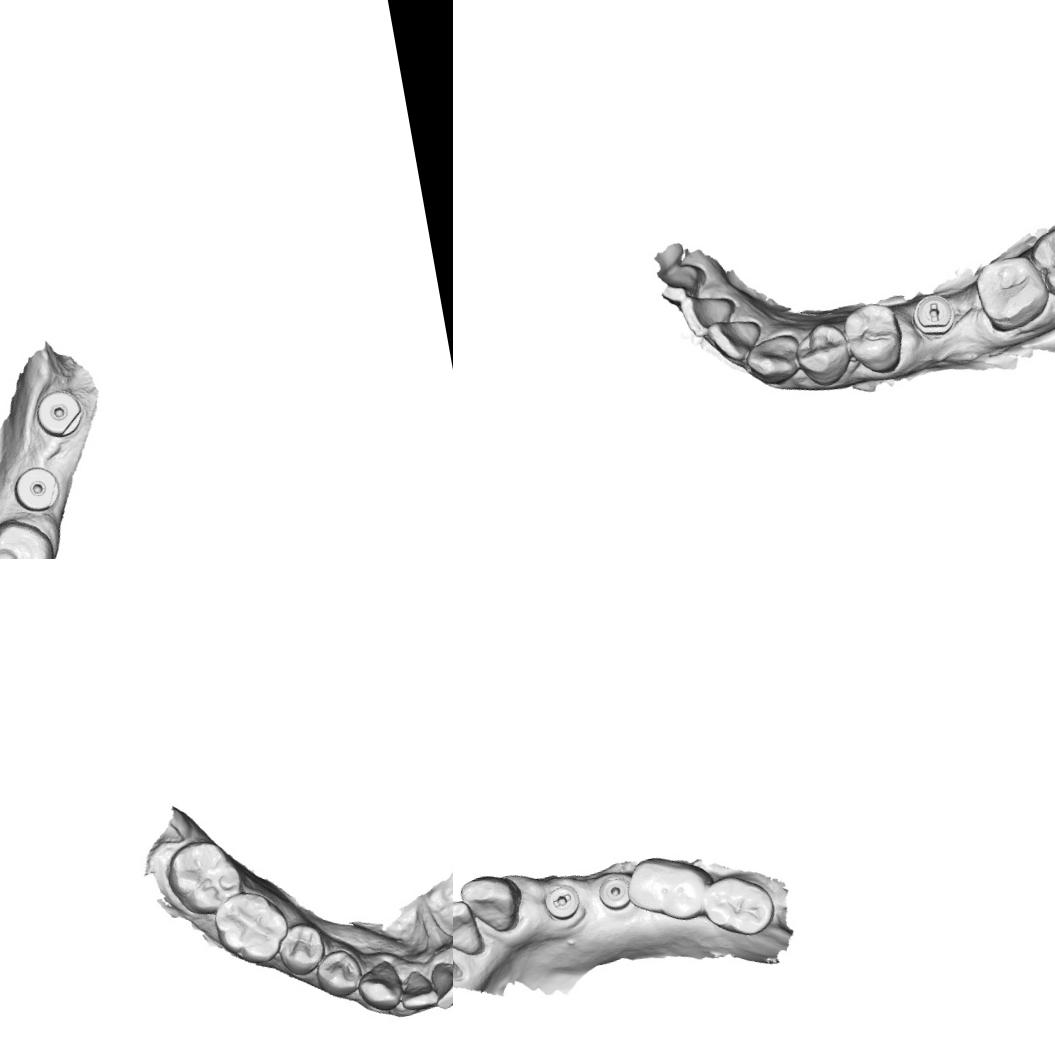canine: (456, 868, 524, 938), (741, 326, 803, 392), (351, 956, 406, 1016)
implant: (9, 460, 65, 514), (32, 386, 85, 439), (592, 868, 638, 914)
implant_minus: (909, 290, 959, 340), (538, 878, 583, 923)
incisor: (676, 287, 746, 342), (706, 314, 770, 370), (653, 258, 709, 307), (453, 893, 484, 966), (394, 966, 440, 1012), (427, 958, 453, 1010)
molar: (208, 884, 294, 970), (162, 834, 247, 921), (623, 848, 714, 928), (696, 866, 780, 942), (968, 250, 1046, 329), (1039, 215, 1055, 298)
premolar: (839, 297, 907, 378), (792, 319, 850, 388), (272, 918, 329, 980), (311, 944, 365, 1001), (0, 511, 60, 559)
